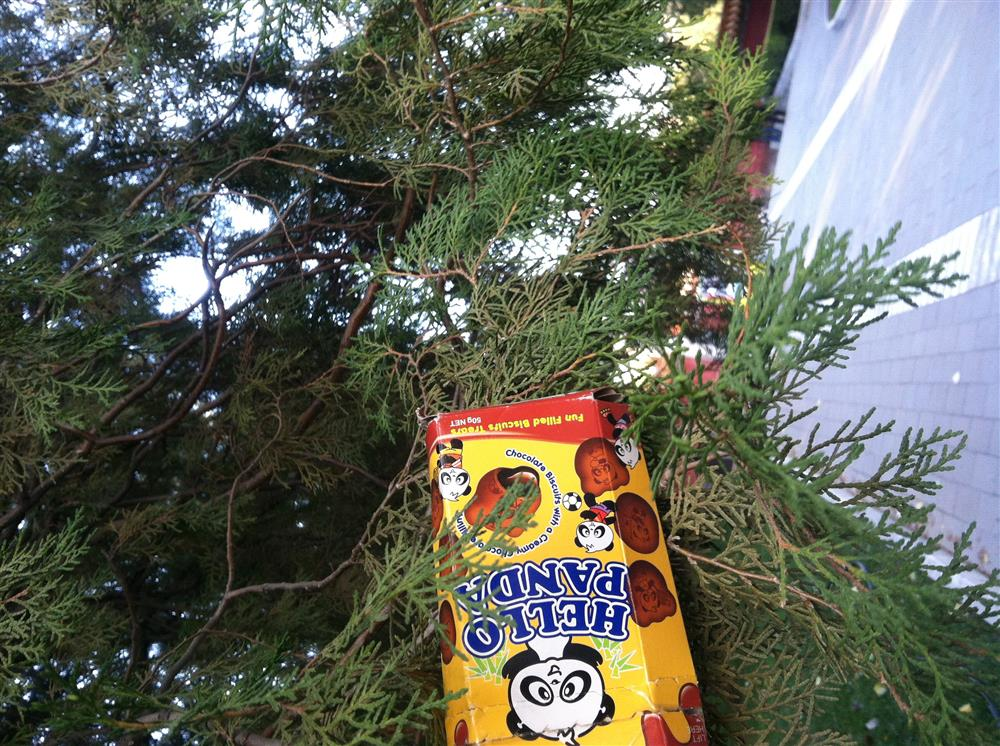HelloPanda: (420, 385, 715, 740)
